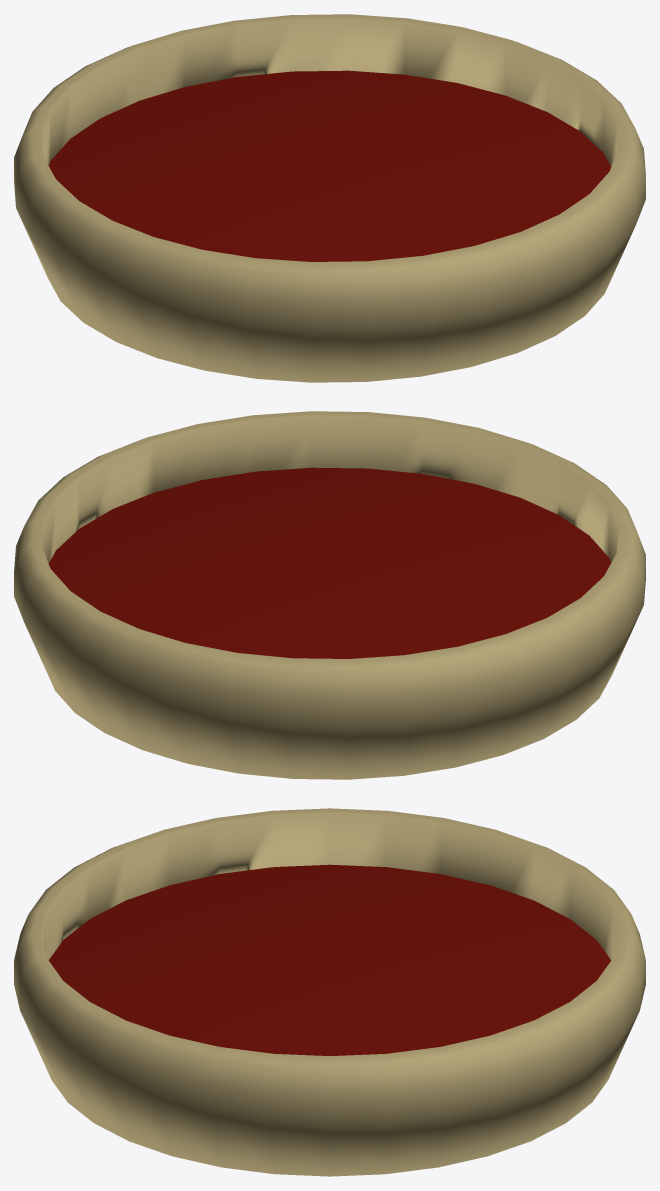
File: skål.fbx
3 renders of one model, top to bottom at view 1: azimuth 30°, elevation 25°; view 2: azimuth 150°, elevation 25°; view 3: azimuth 270°, elevation 25°, orthographic.
Parts seen in each view (by area): view 1: Cylinder; view 2: Cylinder; view 3: Cylinder.
Boxes of the visible parts, x1,y1,x2,y2 form: Cylinder: [14, 14, 645, 382]; Cylinder: [14, 411, 645, 779]; Cylinder: [14, 808, 645, 1176].
Bounding box in the file's own units: 223 × 47.61 × 223.
